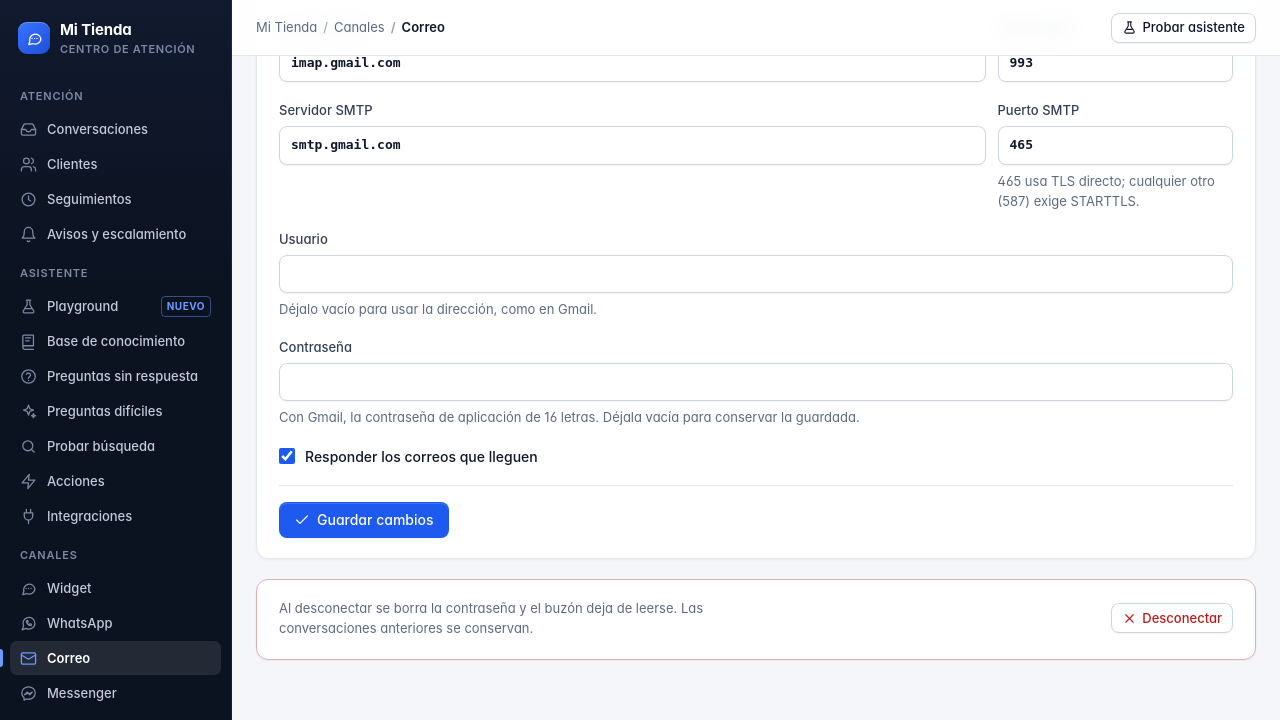
Test: Email channel › shows why the mailbox could not be read and keeps the saved password when left blank
(page scrolled)
Expected: the text "Déjala vacía para conservar la guardada" is shown, top-left (599, 410), bottom-right (860, 426)
Click the button "Guardar cambios" at (364, 520), box top-left (279, 502), bottom-right (448, 538)
(page scrolled)
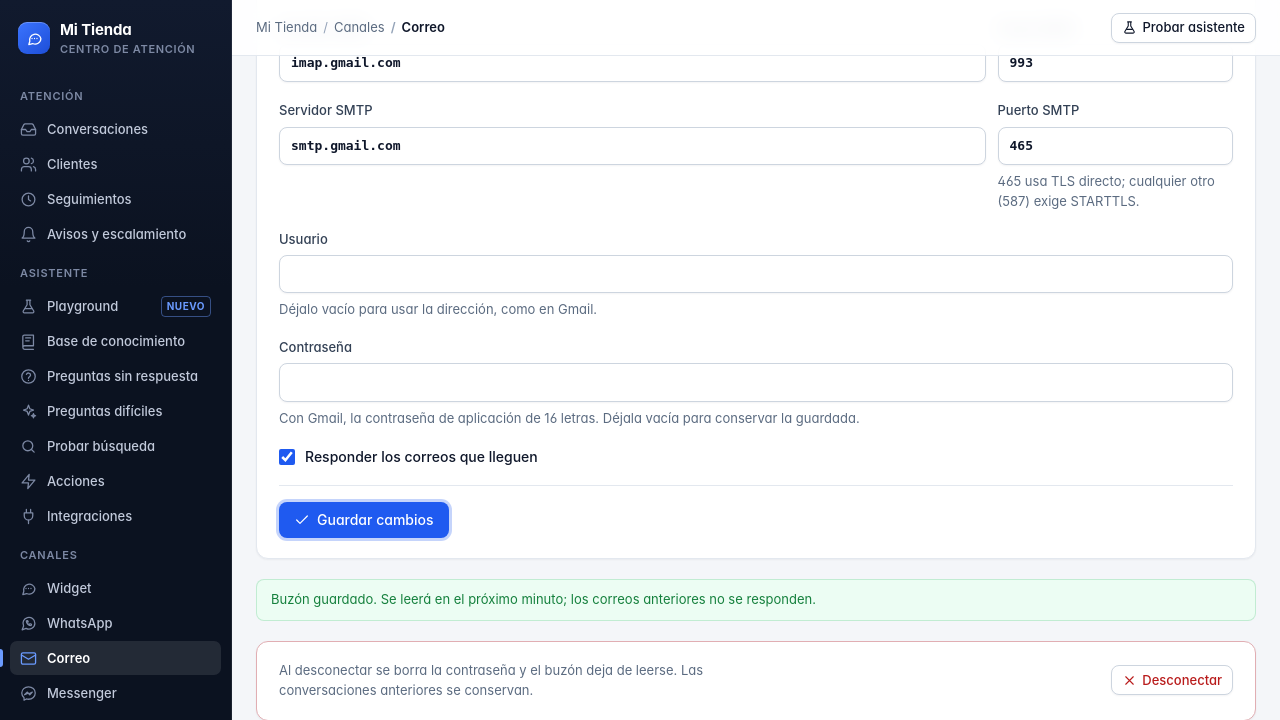
Result: the text "Buzón guardado" is shown at top-left (271, 592), bottom-right (816, 608)
